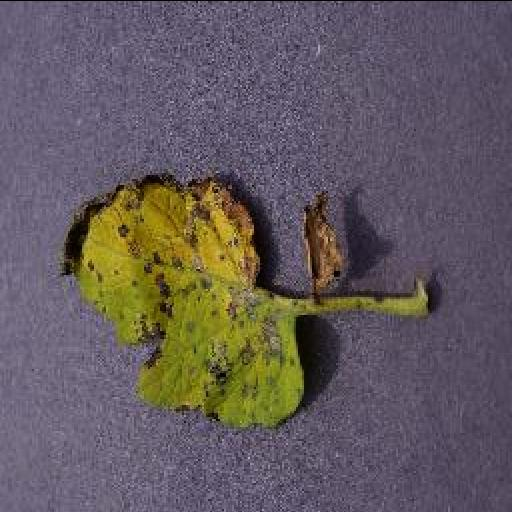disease_tomato: (58, 172, 310, 430)
